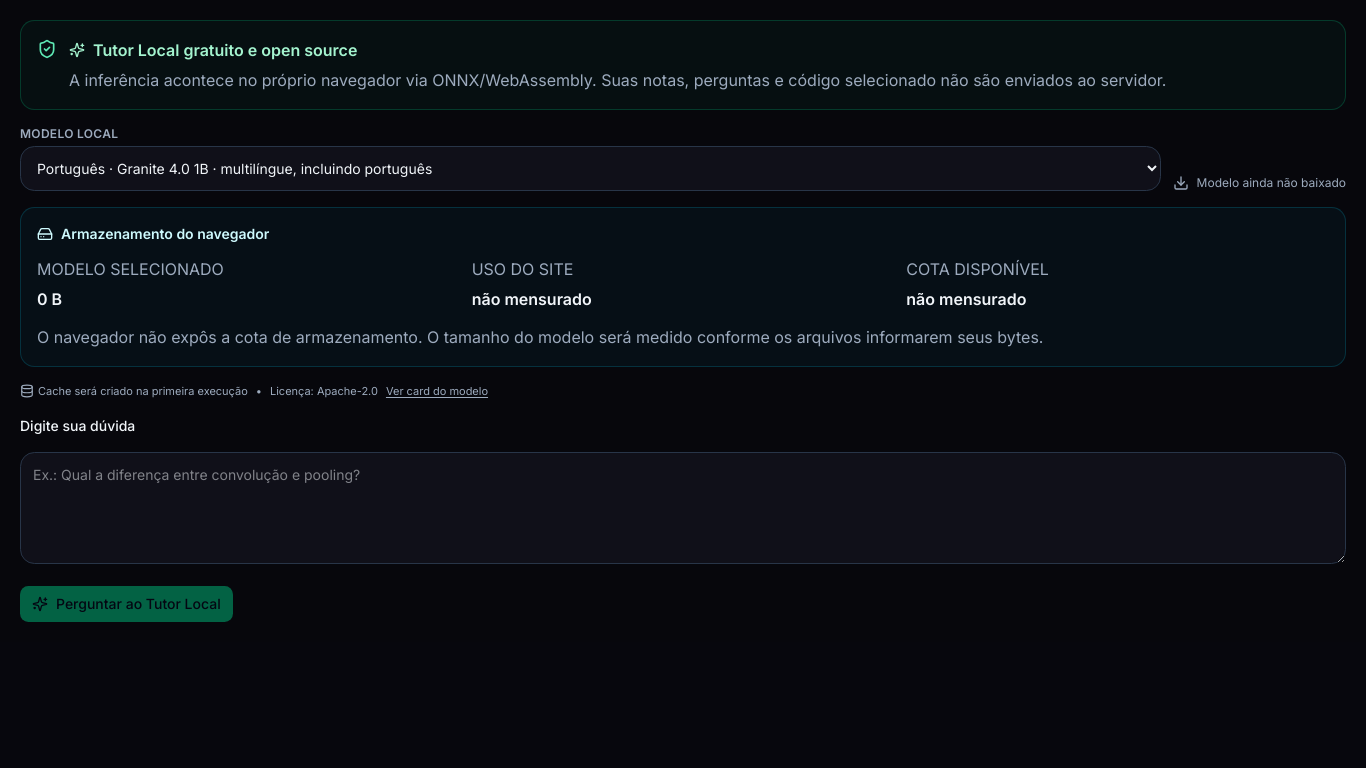
LocalTutorPanel › gera uma resposta local sem depender do backend
Type "O que é convolução?" into the text box labelled "Digite sua dúvida" at (683, 508), box [20, 452, 1346, 564]
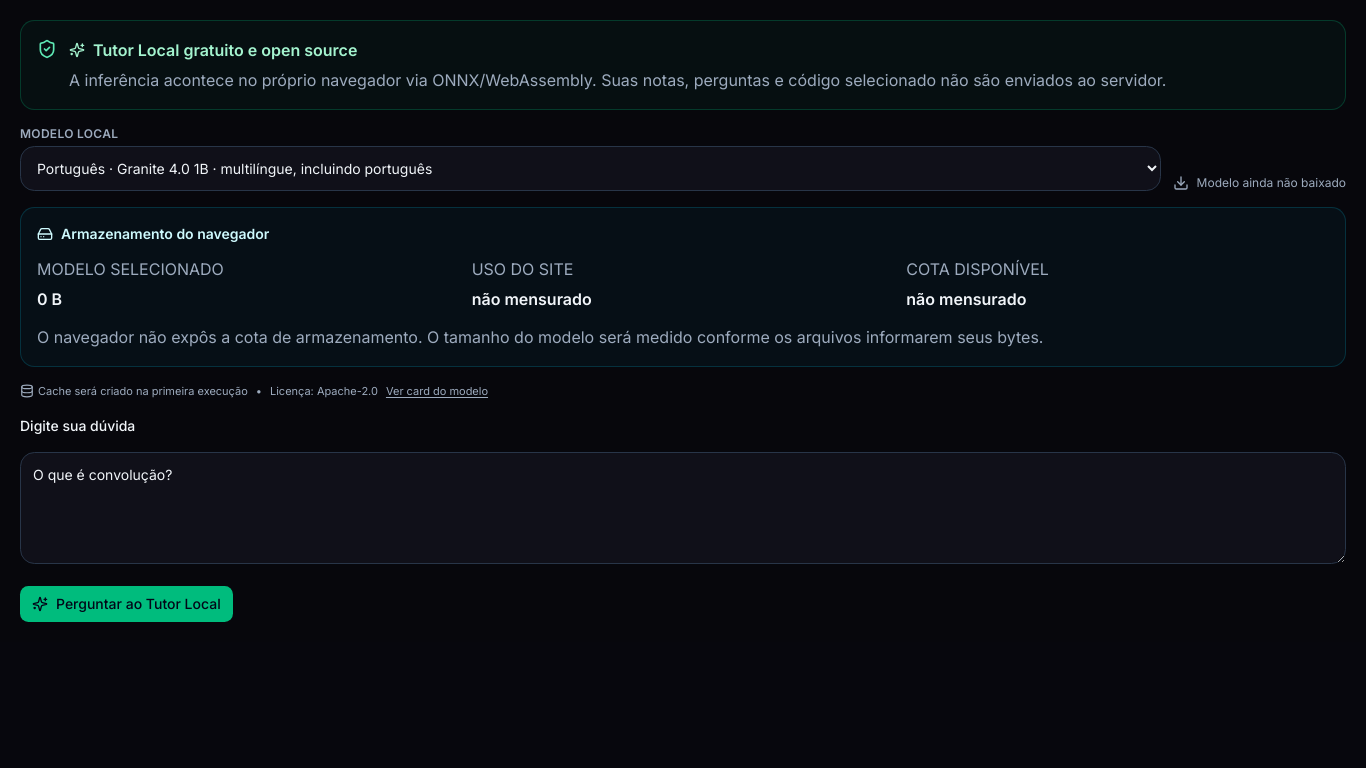
Click the button "Perguntar ao Tutor Local" at (126, 604), box [20, 586, 233, 622]
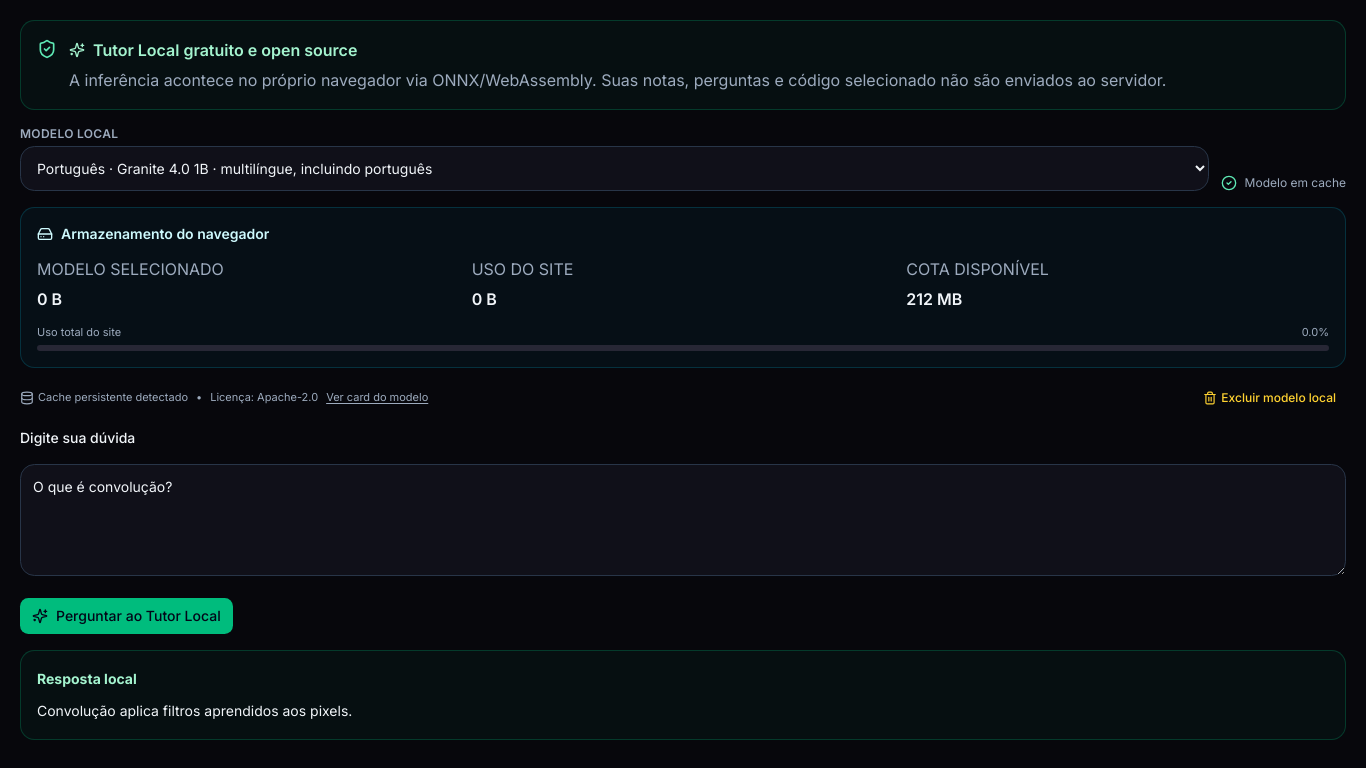
Result: the message shows "Convolução aplica" at [37, 702, 352, 718]
